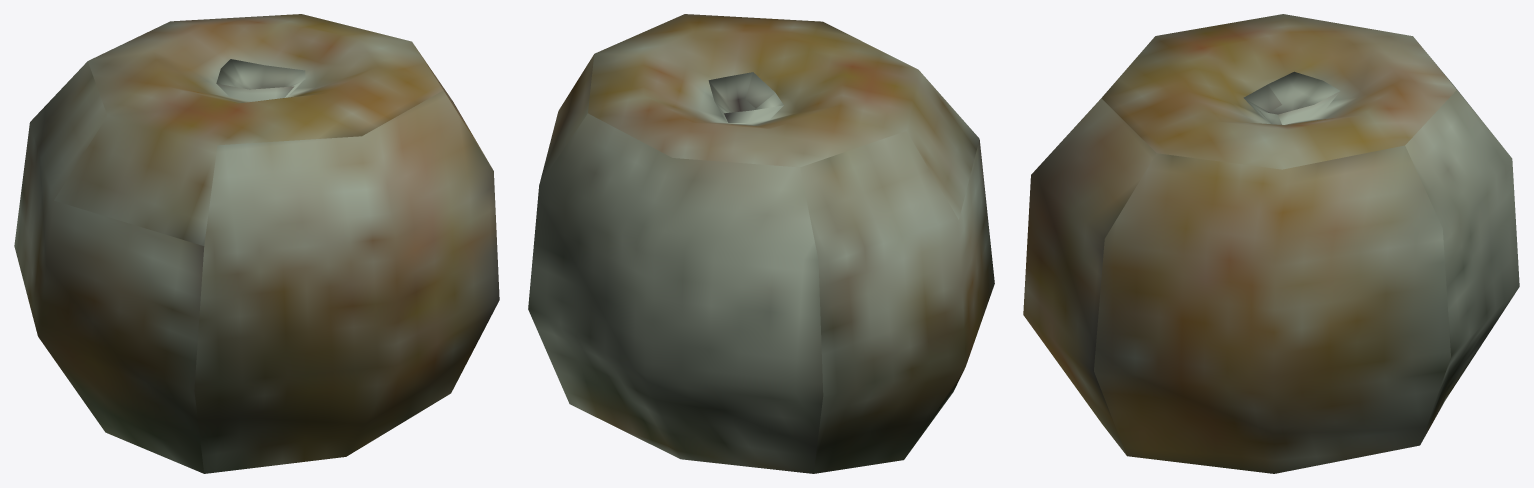
File: orange.obj
3 views of the same model, side by side, from view 1: azimuth 30°, elevation 25°; view 2: azimuth 150°, elevation 25°; view 3: azimuth 270°, elevation 25° (orthographic). The views are drawn at different scales.
Visible parts, largest first — view 1: orange; view 2: orange; view 3: orange.
Boxes of the visible parts, box(x1,y1,x2,y2) form: orange: box(14, 14, 499, 473); orange: box(528, 14, 994, 473); orange: box(1023, 14, 1519, 473).
Bounding box in the file's own units: 1.4 × 1.15 × 1.4.
